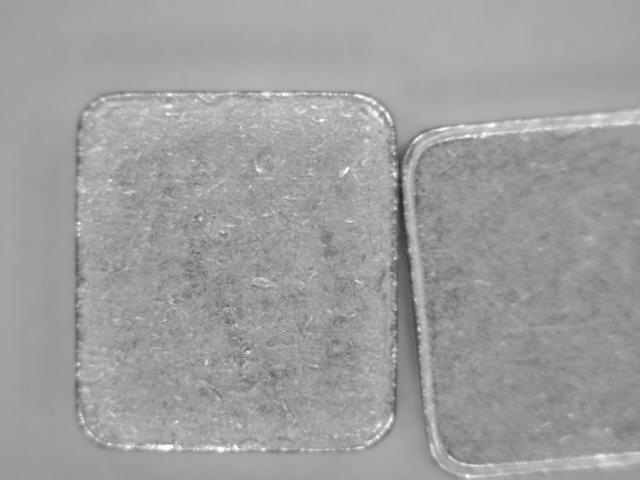nok: (399, 105, 638, 477)
ok: (68, 87, 401, 455)
